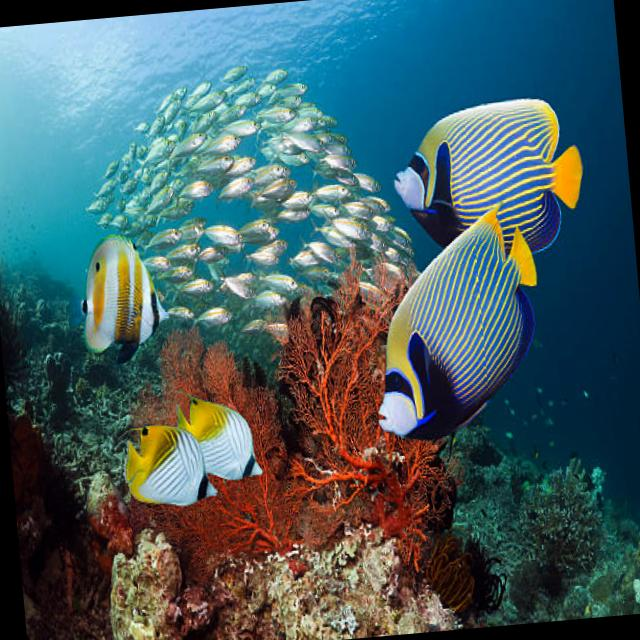AngelFish: (360, 206, 549, 440), (388, 93, 589, 265), (76, 232, 175, 366), (116, 420, 216, 514), (177, 391, 260, 486)
